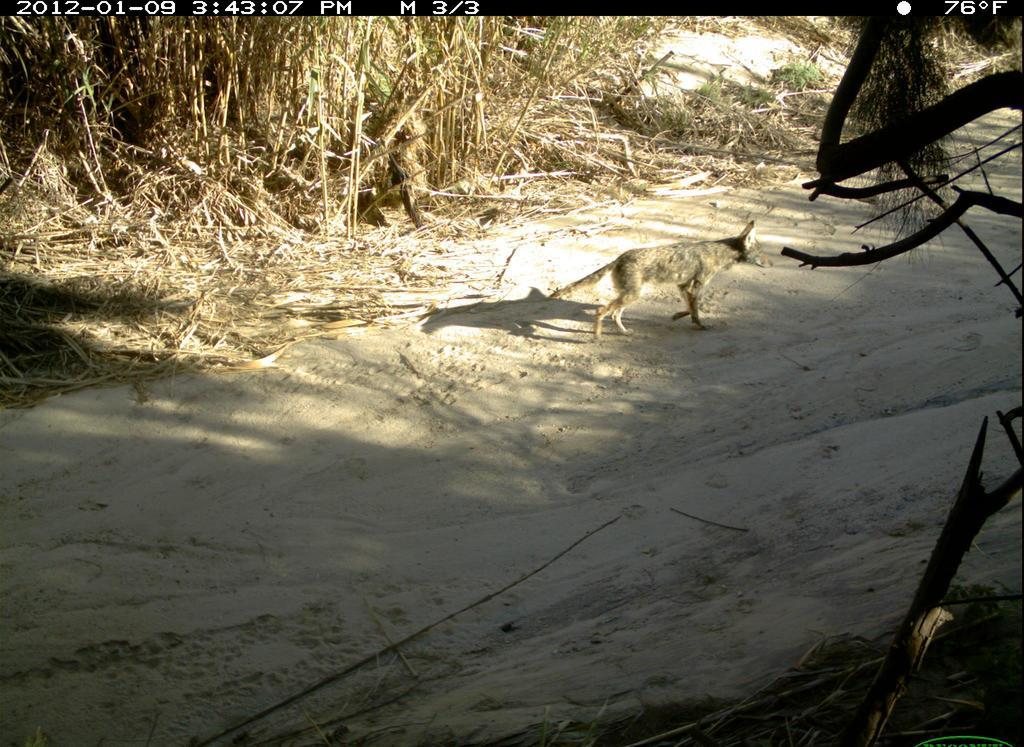coyote: (546, 218, 774, 345)
